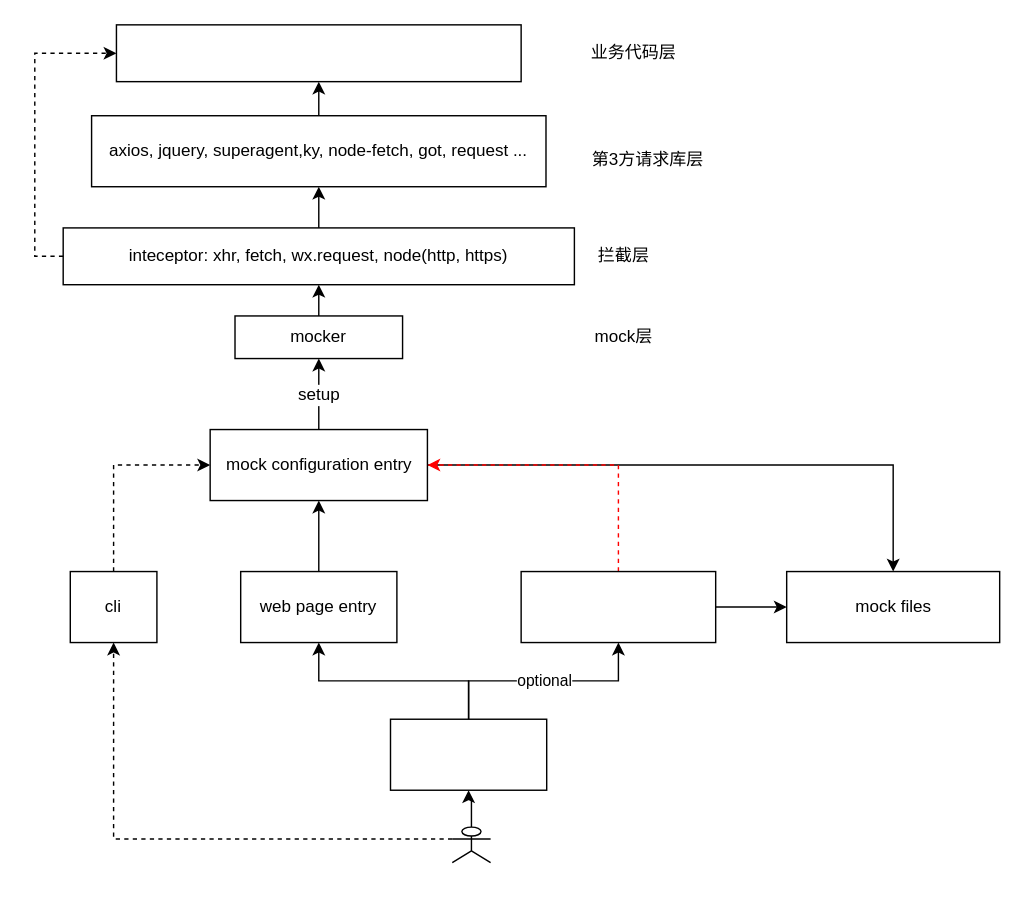
Some shapes in this 1025 by 917 pixel diagram are drawn without their labels. Each missing label, with the centre of its shape:
"business code" goes at point 318,52.
"npm run dev" goes at point 468,754.
"webpack plugin" goes at point 618,606.
"you" goes at point 471,844.
